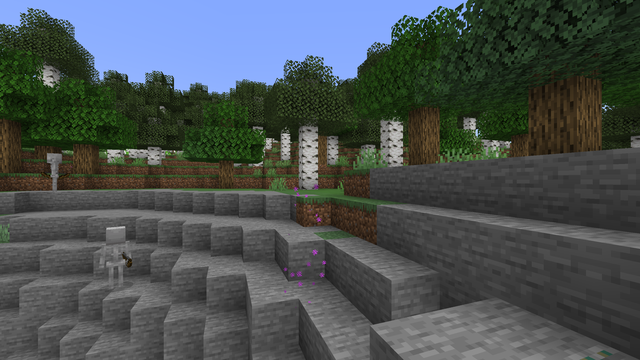squelettes: (100, 226, 128, 292), (43, 153, 64, 191)
